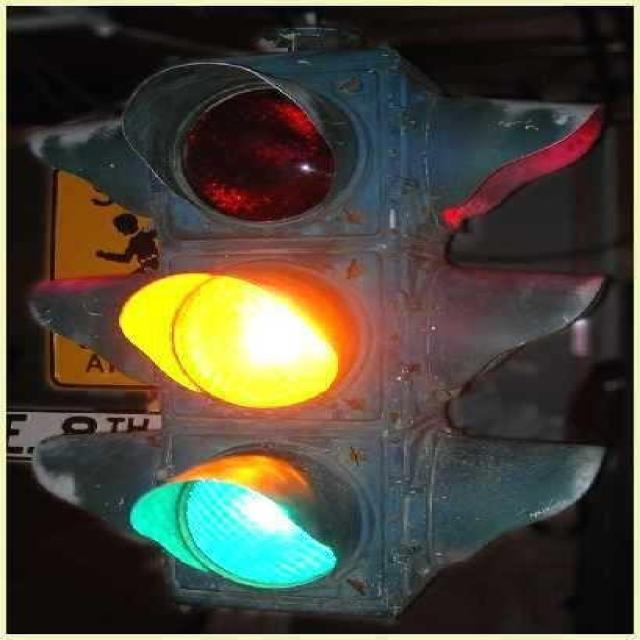Traffic Light -Green-: (82, 435, 416, 610)
Traffic Light -Yellow-: (100, 46, 410, 614), (84, 249, 409, 425)
